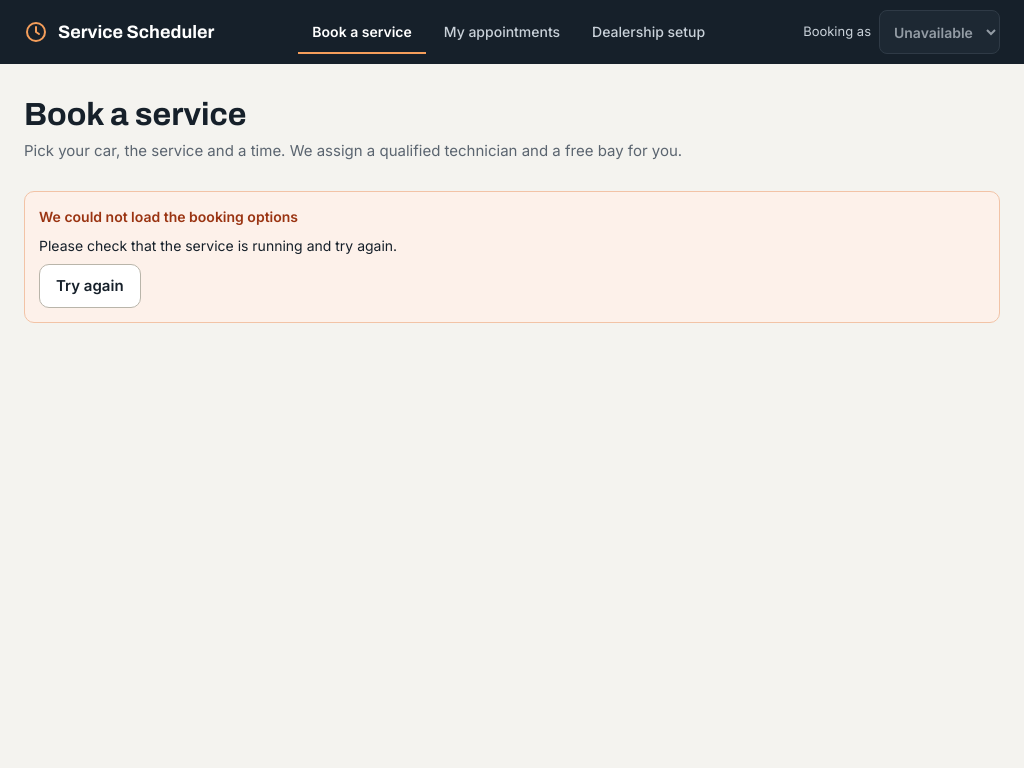
Test: Booking as (customer switcher) › shows an error with Try again when the customers cannot be loaded
Expected: the text "We could not load the booking options" is shown, x1=39 y1=206 x2=298 y2=227
Expected: the dropdown labelled "Booking as" is disabled, x1=879 y1=10 x2=1000 y2=54
Click the button "Try again". click: click(90, 286)
box: x1=39 y1=264 x2=141 y2=308
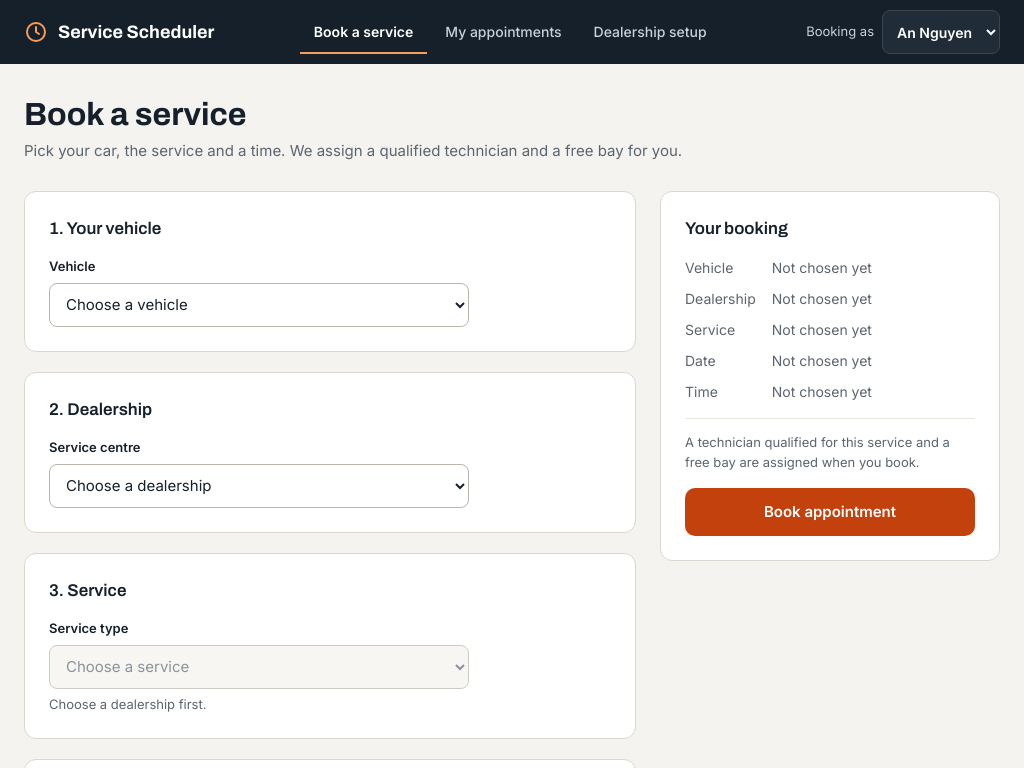
Expected: the dropdown labelled "Vehicle" is shown, x1=49 y1=283 x2=469 y2=327
Expected: the dropdown labelled "Booking as" shows "An Nguyen", x1=882 y1=10 x2=1000 y2=54
